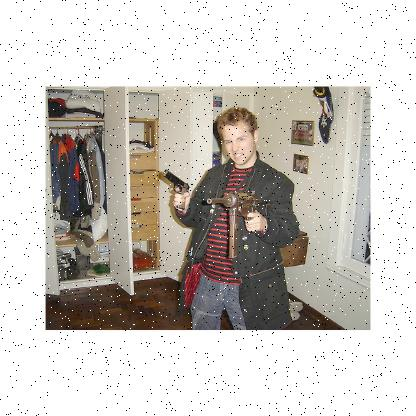gun: (160, 168, 192, 208)
